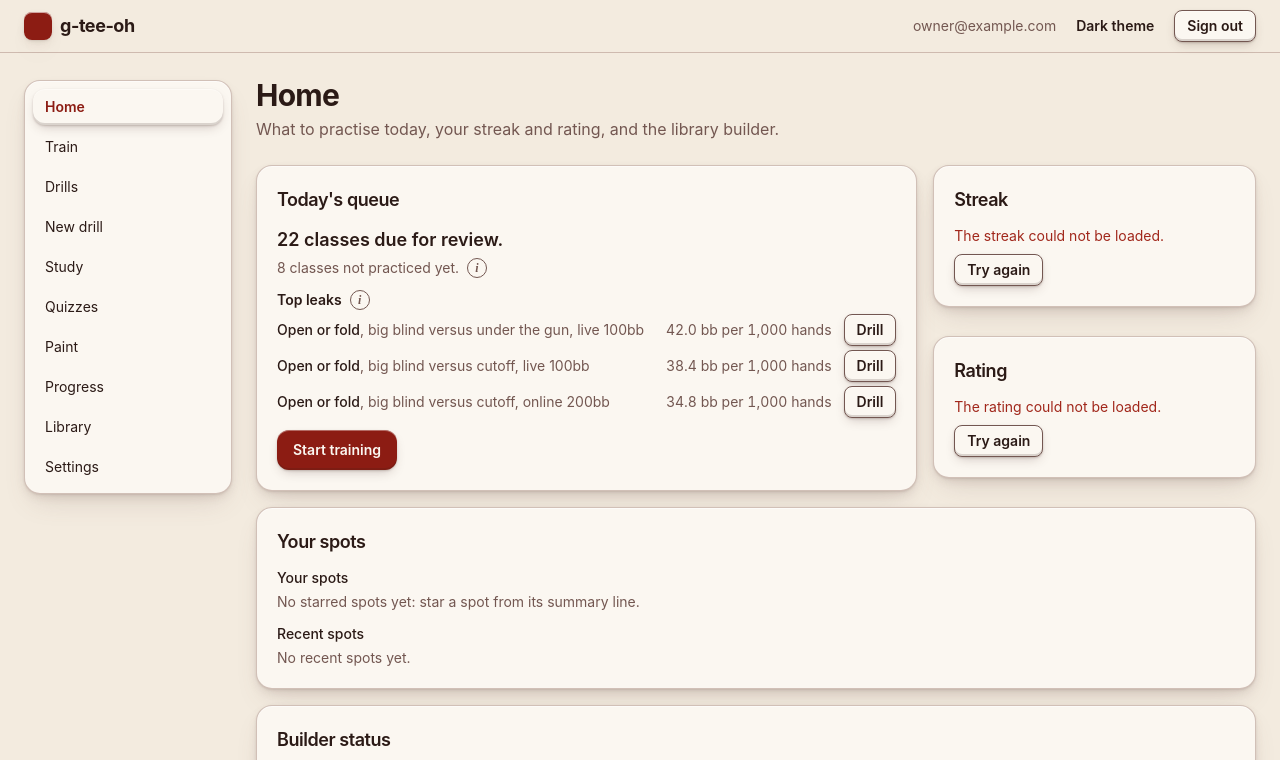
Test: R4.14 home streak and rating cards › R4.14 failed streak and rating reads each offer Try again
This screenshot has width=1280, height=760.
Click the button named "Try again: the streak": (999, 270) [954,254,1043,286]
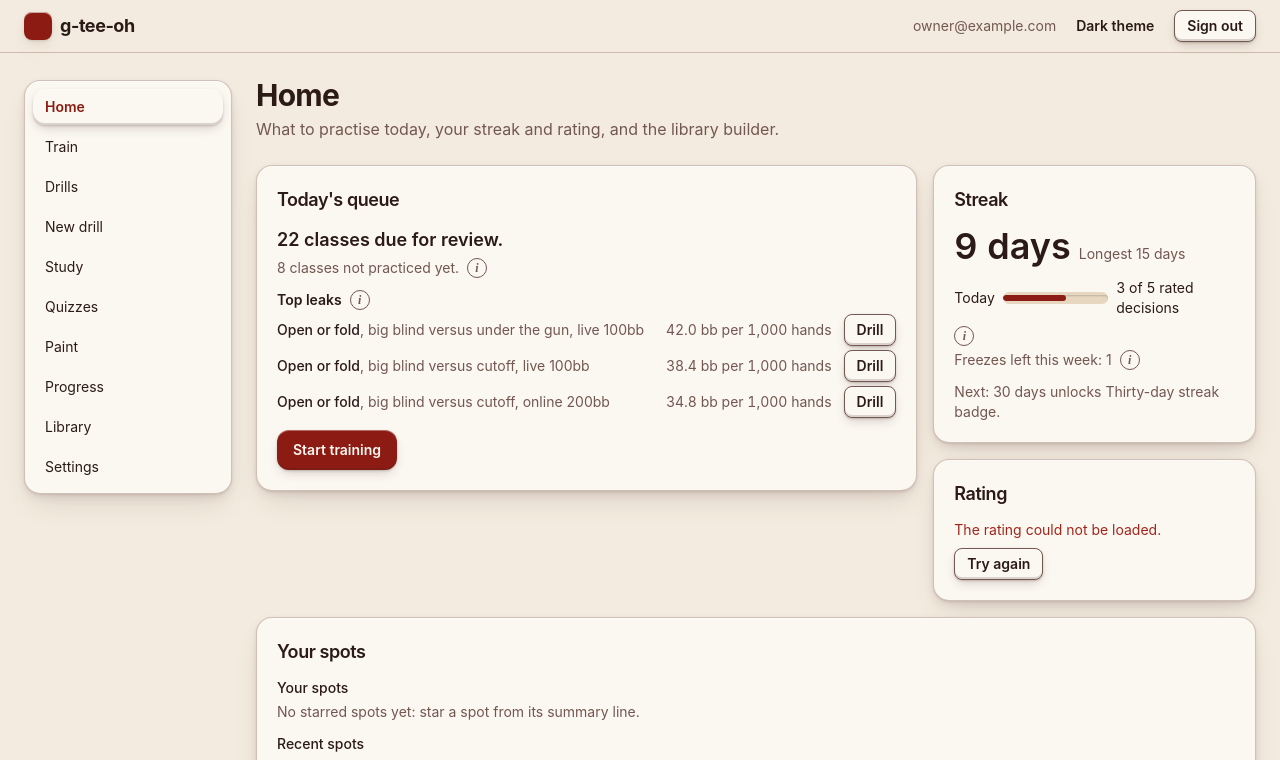
Expected: the text with test id "streak-current" reads "9 days", [954,224,1071,268]
Click the button named "Try again: the rating": (999, 564) [954,548,1043,580]
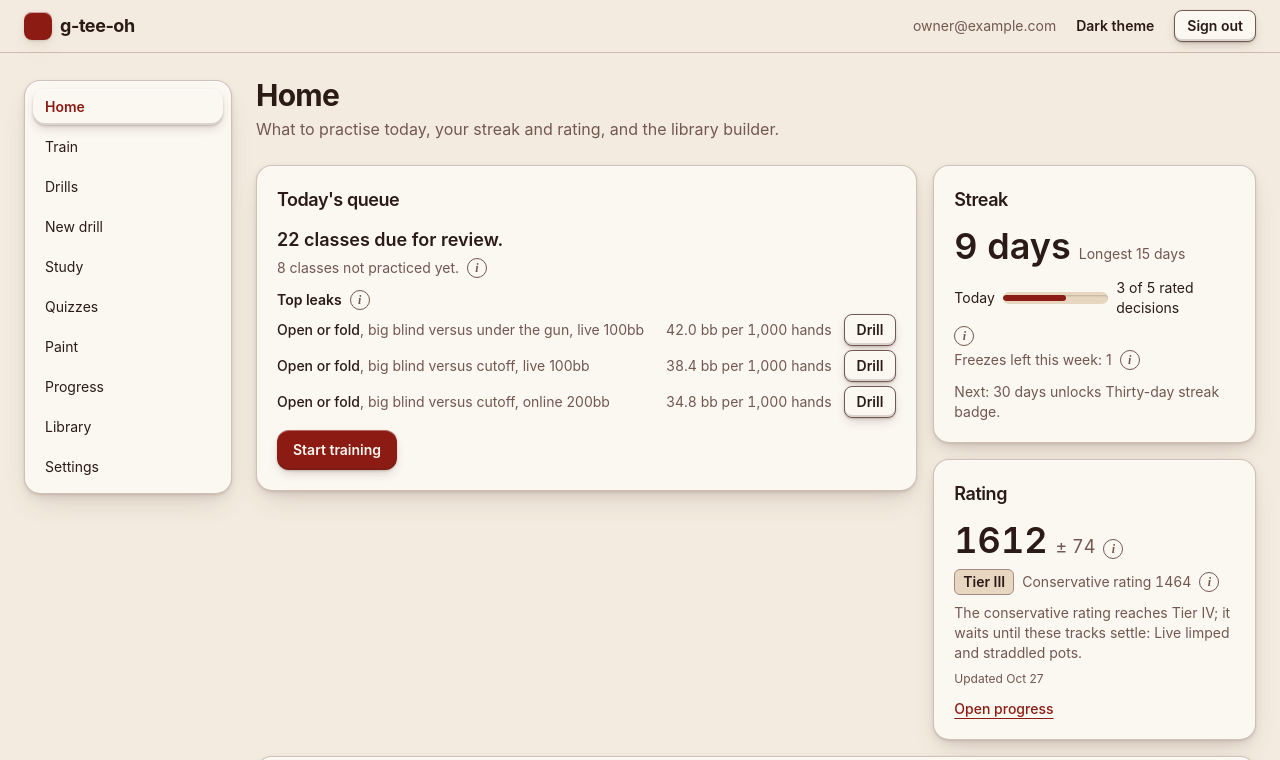
Expected: the text with test id "rating-value" reads "1612", [954,518,1048,562]
